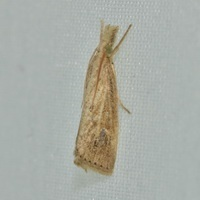insect: (74, 20, 131, 174)
